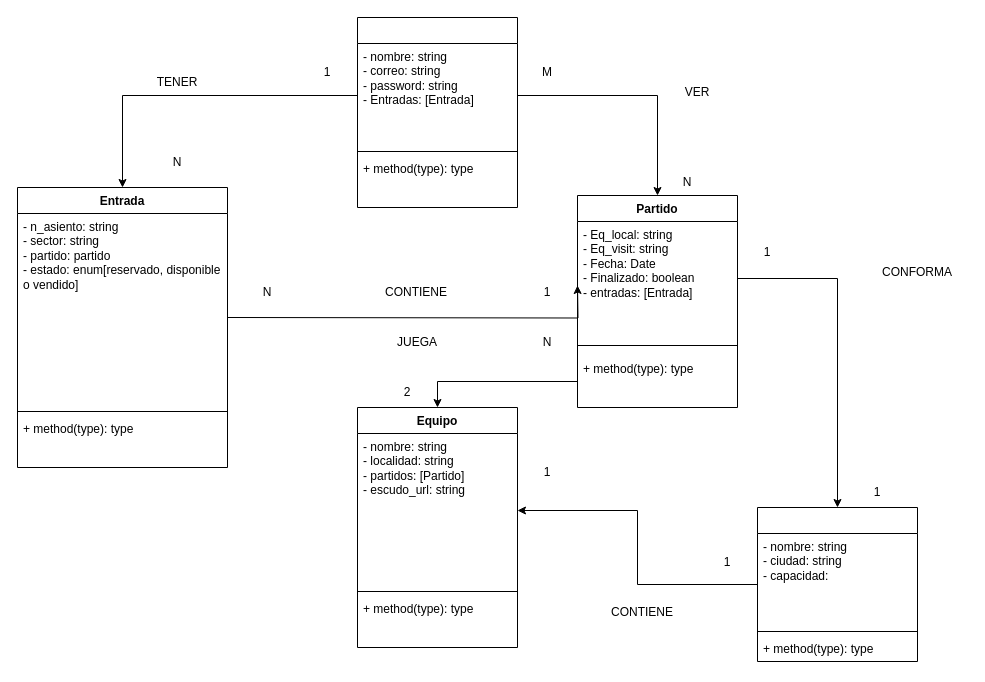
Some shapes in this 985 by 682 pixel diagram are drawn without their labels. The shapes that lost their labels are listed below. From the top down, each one's box as (x1, y1, x2, y2) in pixels, then its label:
(356, 16, 518, 208): Usuario
(756, 506, 918, 662): Estadio
